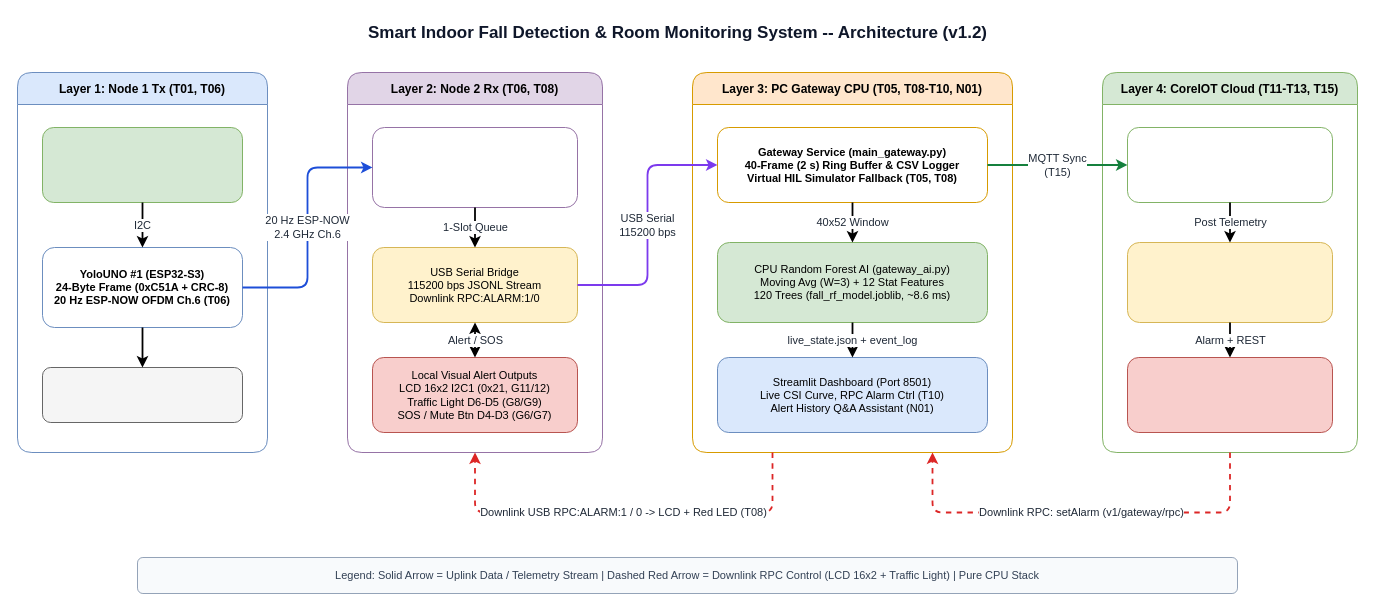
Some shapes in this 1375 by 611 pixel diagram are drawn without their labels. Here are the shapes that lost their labels. From the top down, the centre of each, then its label:
At pixel 142 164: "DHT20 / AHT20 Sensor I2C1 0x38 (GPIO11/12) Non-Blocking 5 s Poll (T01)".
At pixel 475 167: "YoloUNO #2 (ESP32-S3) Auto-Pair MAC + PHY CSI Rx 52 Active OFDM Subcarriers".
At pixel 1229 164: "CoreIOT MQTT Gateway v1/gateway/connect & telemetry YoloUNO_Node1_Tx & Node2_Rx".
At pixel 1229 282: "Smart RuleChain (T12) FALL (>=0.80) or SOS Check Create Alarm + Downlink RPC".
At pixel 142 394: "Onboard WS2812B LED GPIO45 Heartbeat (1 Hz)".
At pixel 1229 394: "Caregiver Outputs CoreIOT Web Dashboard (T11) Telegram Bot Emergency Push (T13)".
